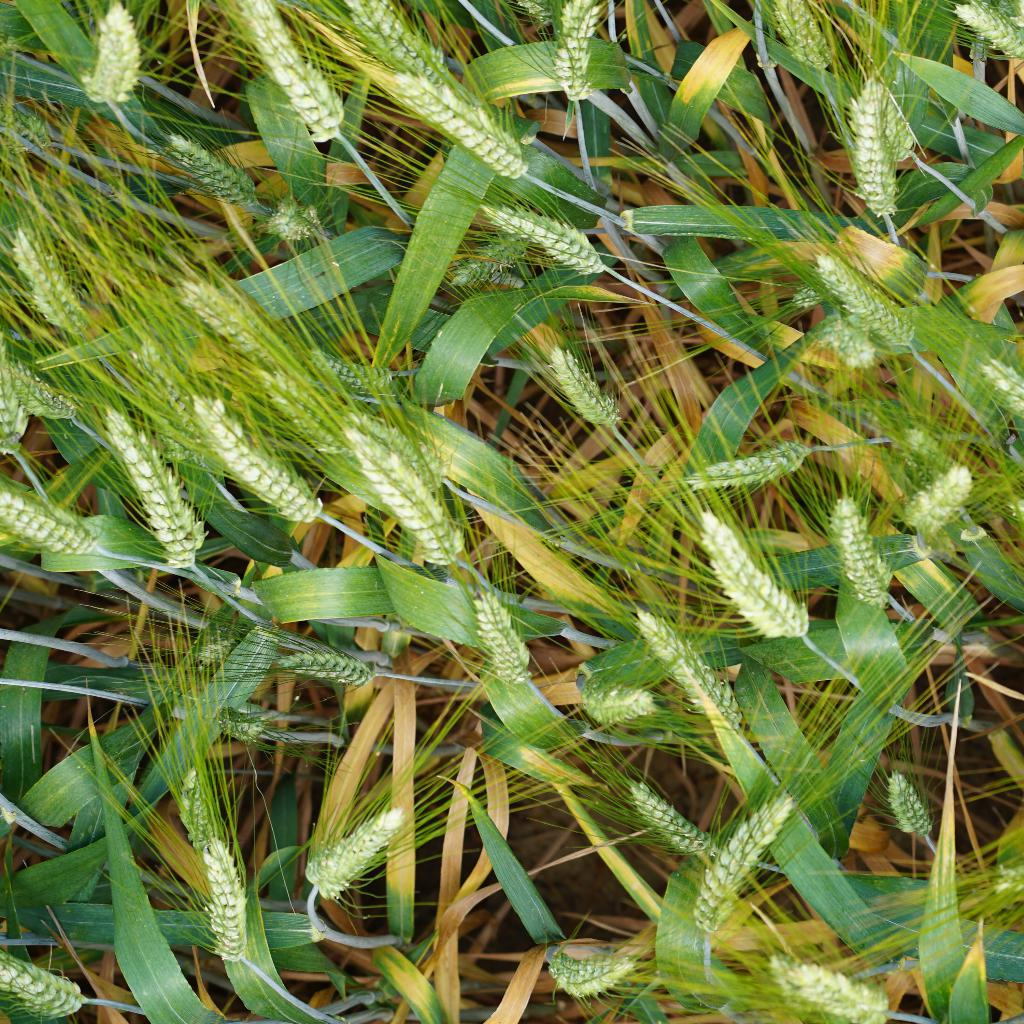0-0: (671, 504, 821, 653), (219, 0, 350, 165), (101, 407, 220, 587), (347, 417, 481, 574), (190, 389, 346, 523), (624, 601, 766, 746), (683, 773, 802, 935), (382, 70, 533, 194), (792, 246, 929, 362), (4, 208, 109, 347), (815, 490, 915, 634), (168, 830, 268, 971), (601, 772, 742, 870), (331, 0, 462, 100), (888, 447, 990, 570), (826, 67, 908, 215), (479, 193, 615, 281), (169, 269, 288, 369), (518, 331, 635, 428), (301, 799, 413, 899), (754, 942, 890, 1024), (681, 428, 829, 497), (453, 591, 545, 702), (0, 490, 112, 578), (422, 216, 542, 292), (74, 0, 149, 116), (0, 348, 90, 444), (165, 124, 264, 209), (257, 636, 396, 691), (0, 950, 101, 1024), (526, 937, 642, 1000), (553, 664, 647, 740), (302, 343, 411, 402), (965, 344, 1024, 452), (159, 762, 239, 841), (873, 770, 952, 847), (550, 0, 602, 111), (799, 302, 881, 365), (766, 0, 844, 66), (269, 185, 331, 260), (955, 0, 1024, 67), (990, 792, 1024, 905), (0, 394, 44, 478), (178, 698, 264, 740), (994, 474, 1024, 564), (490, 0, 550, 33), (1005, 0, 1024, 49)
